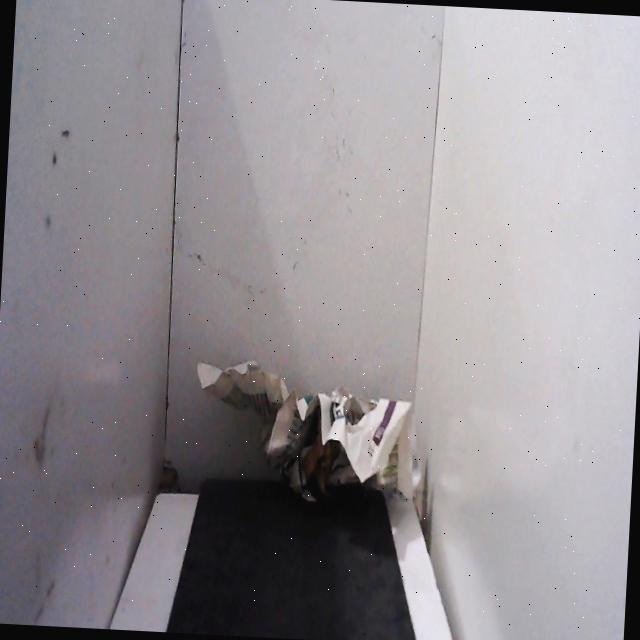papel: (186, 346, 432, 520)
